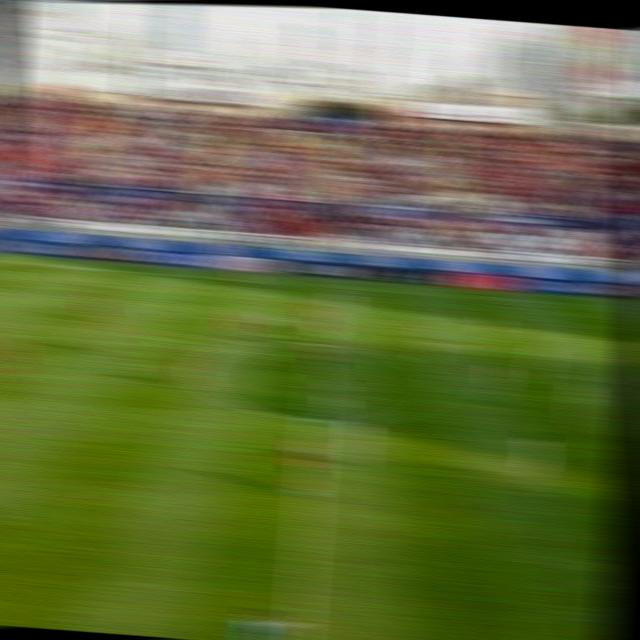halfcircle_bottom: (298, 407, 332, 431)
halfcircle_top: (306, 333, 339, 355)
midline_top_intersection: (309, 275, 340, 292)
